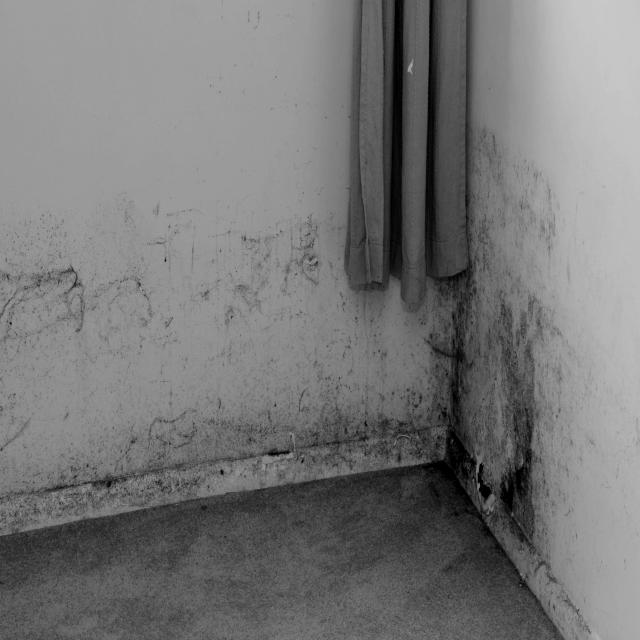stain marks: (0, 100, 580, 565)
